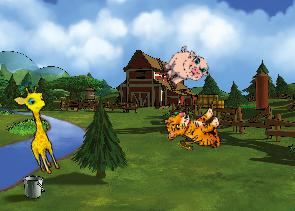giraffe: (10, 82, 71, 177)
pig: (157, 41, 212, 95)
tiger: (162, 101, 226, 159)
